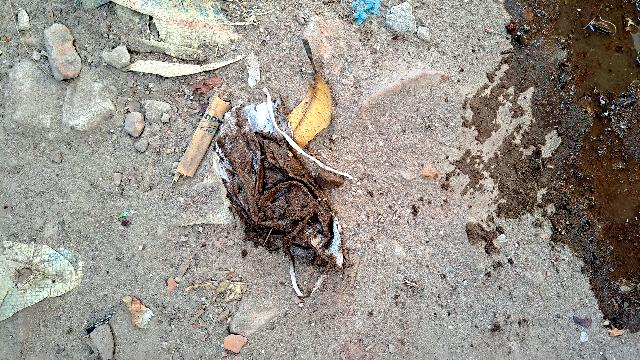mask: (201, 99, 349, 285)
